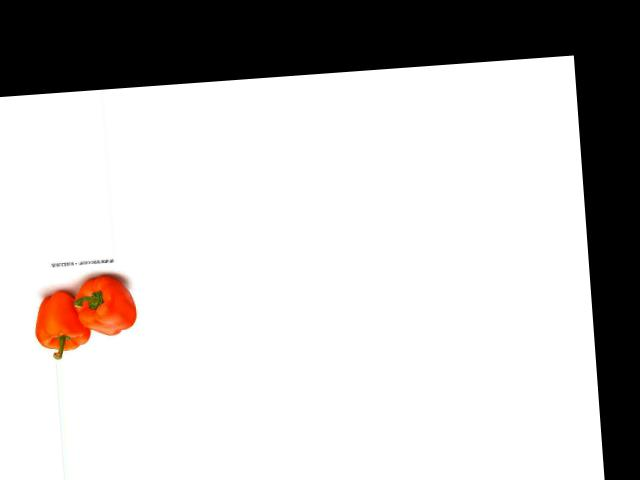bell_pepper: (69, 267, 139, 340)
